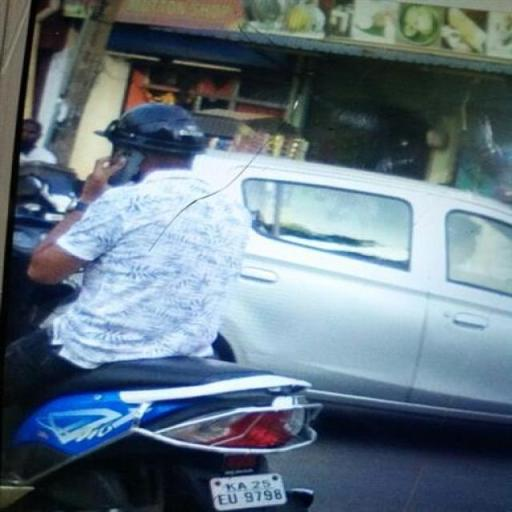using mobile: (84, 145, 152, 187)
